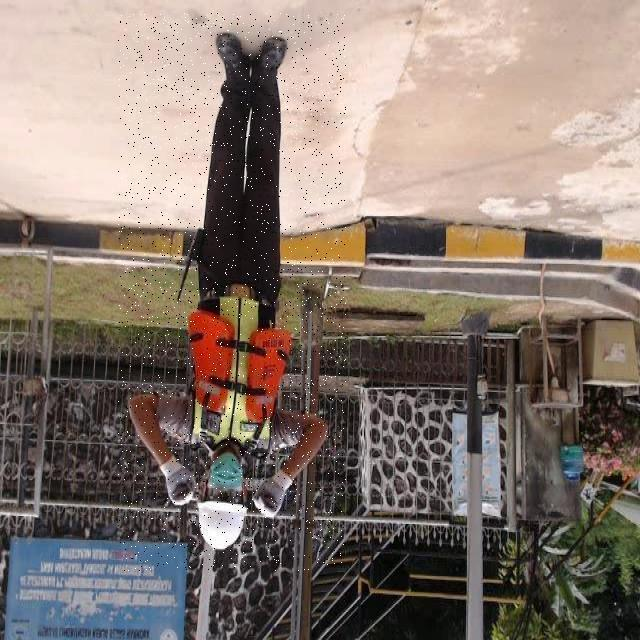gloves: (250, 467, 294, 519), (158, 458, 198, 511)
